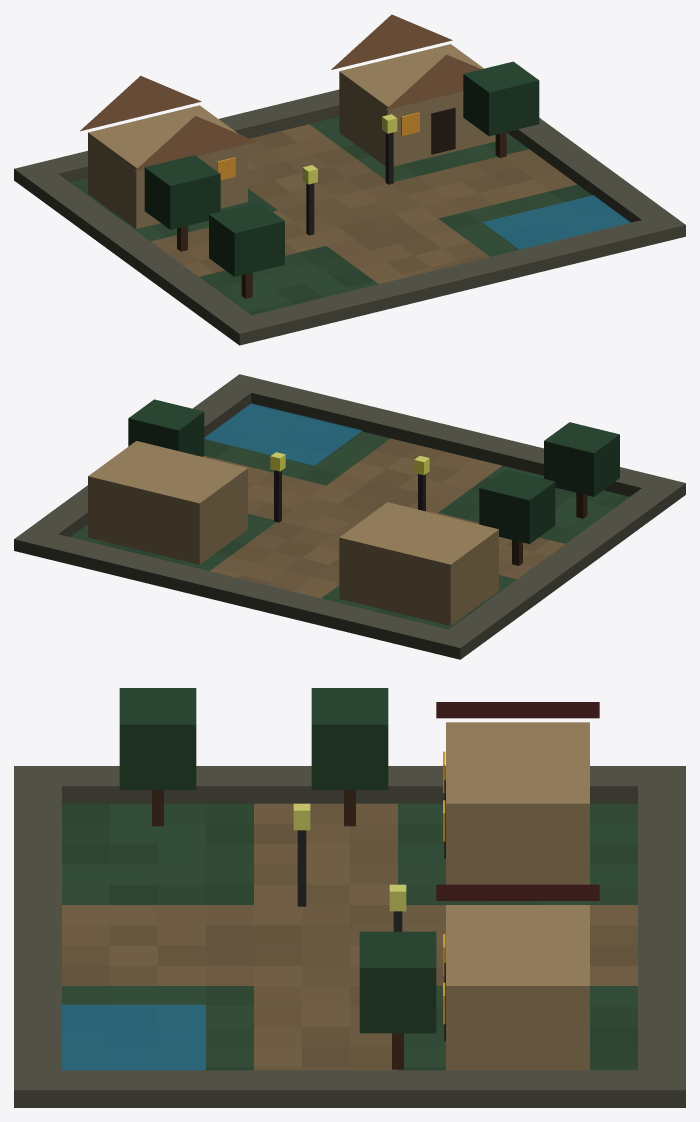
3 views of the same model, one above another, from view 1: azimuth 30°, elevation 25°; view 2: azimuth 150°, elevation 25°; view 3: azimuth 270°, elevation 25° (orthographic). The views are drawn at different scales.
Bounding box in the file's own units: 16 × 3.5 × 14.
